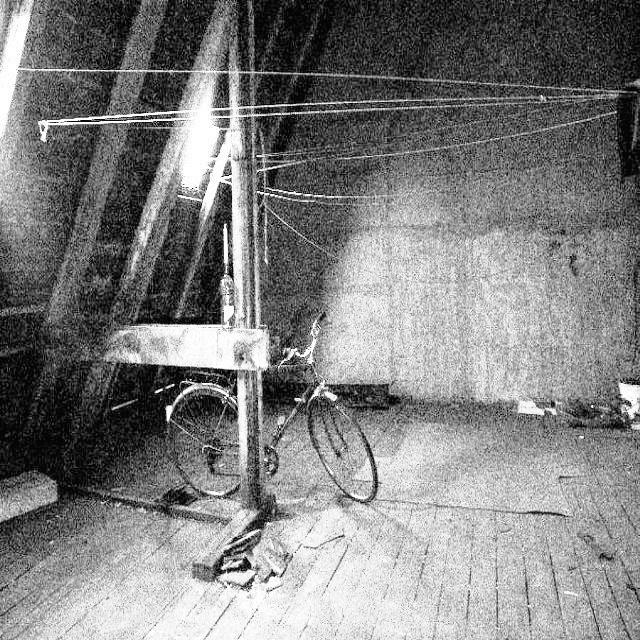Bicycle: (161, 302, 378, 523)
